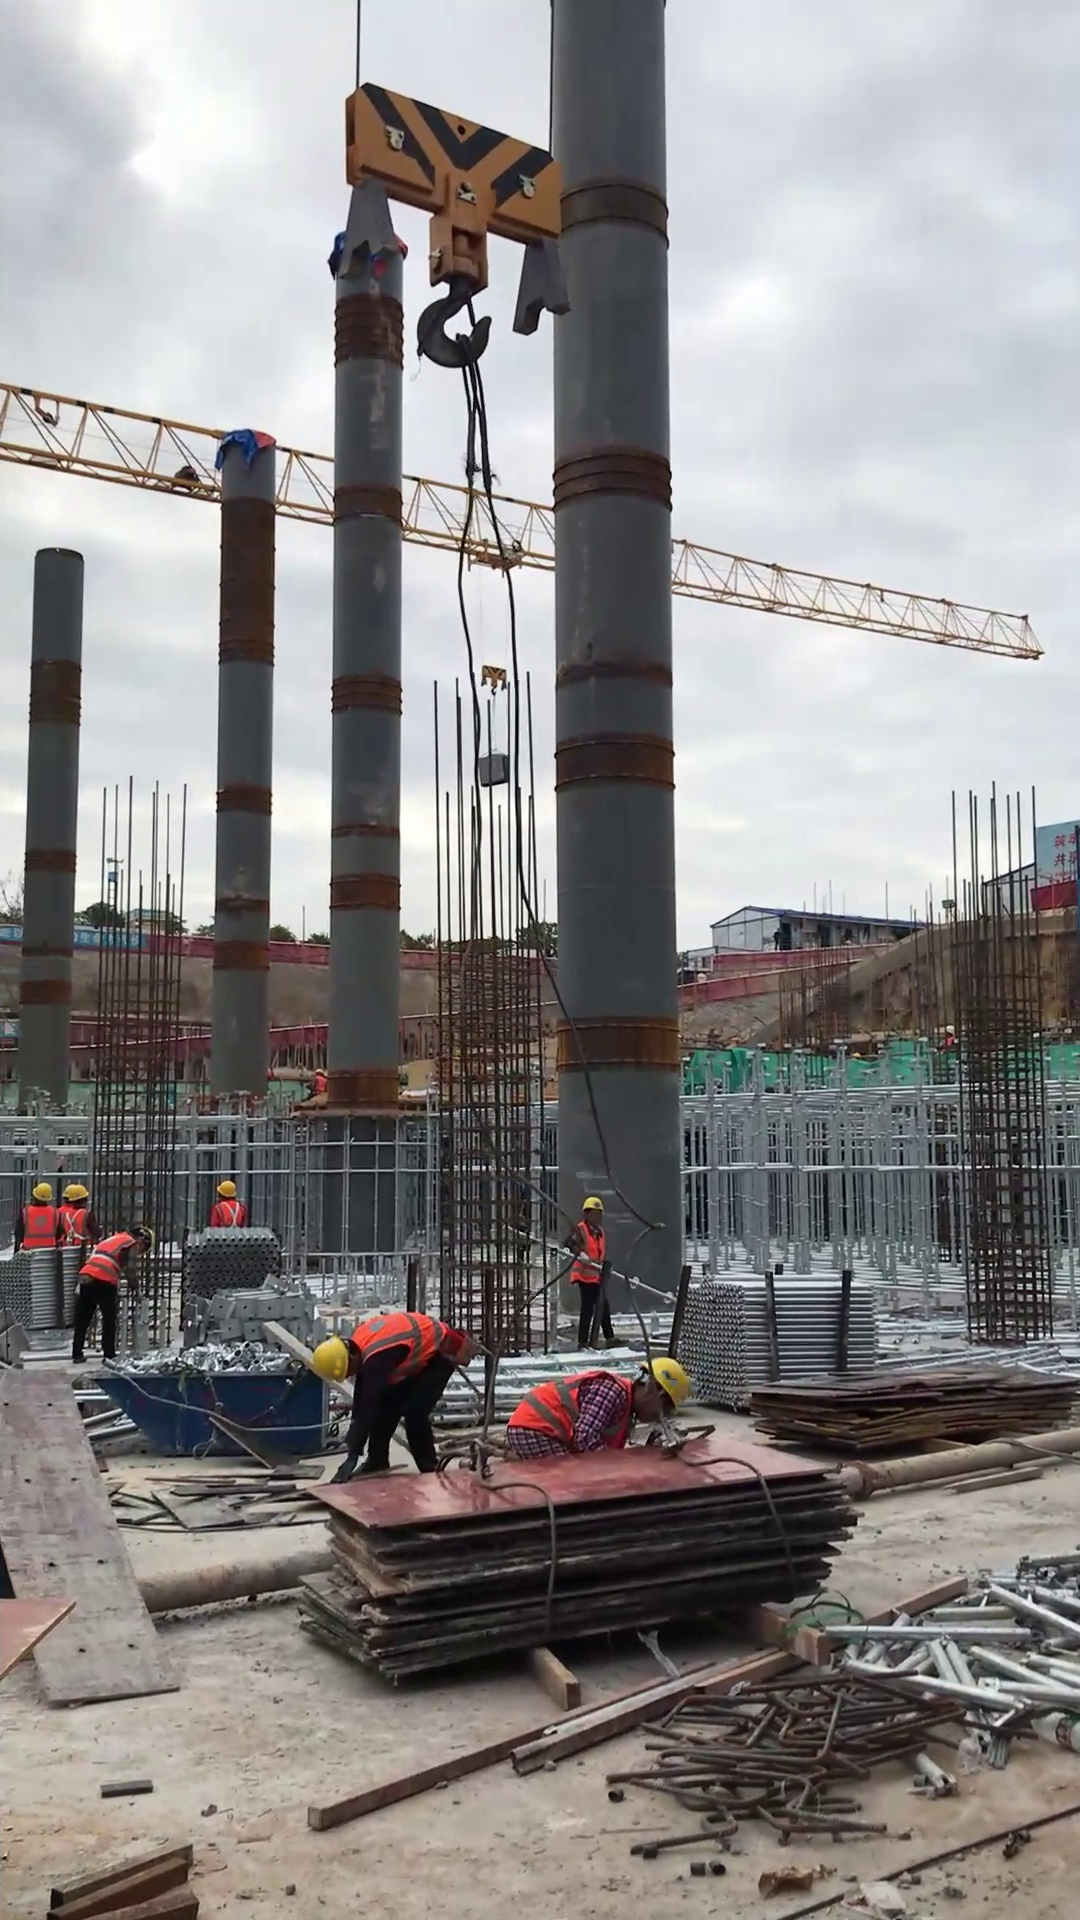board: (285, 1439, 876, 1696), (742, 1356, 1080, 1479)
helmet: (638, 1357, 694, 1411), (310, 1333, 352, 1387), (64, 1184, 92, 1206), (28, 1182, 56, 1204), (138, 1226, 157, 1255), (579, 1196, 608, 1215), (213, 1179, 239, 1199), (313, 1069, 323, 1077)
hook: (316, 65, 583, 396), (476, 653, 511, 703)
hopper: (106, 1358, 318, 1465)
person: (312, 1304, 482, 1489), (500, 1357, 697, 1479), (69, 1221, 157, 1371), (560, 1193, 614, 1354), (13, 1181, 64, 1254), (204, 1176, 249, 1238), (60, 1182, 95, 1247), (310, 1066, 328, 1101)
scaffold: (671, 1261, 891, 1402), (1, 1237, 74, 1340), (182, 1227, 287, 1295)
vest: (506, 1372, 636, 1454), (349, 1311, 470, 1385), (78, 1229, 138, 1291), (569, 1221, 610, 1289), (20, 1204, 58, 1251), (212, 1198, 248, 1233), (62, 1206, 89, 1246), (311, 1078, 325, 1094)
